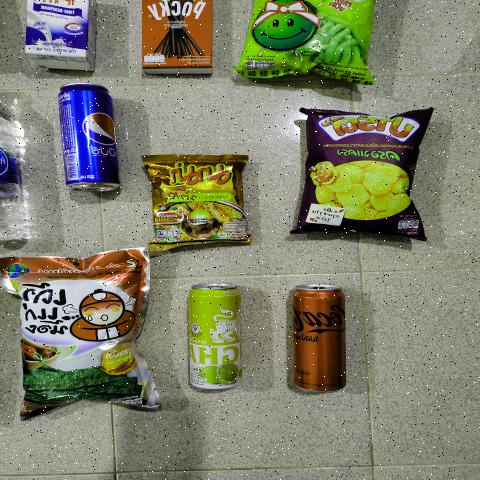coke_red: (293, 282, 347, 390)
mama: (154, 151, 242, 248)
party_purple: (315, 113, 418, 233)
pepsi_blue: (56, 80, 125, 192)
pokki: (144, 0, 216, 71)
singha_yellow: (186, 282, 240, 386)
taokaenoi: (11, 261, 154, 409)
thai_denmark: (27, 0, 95, 73)
